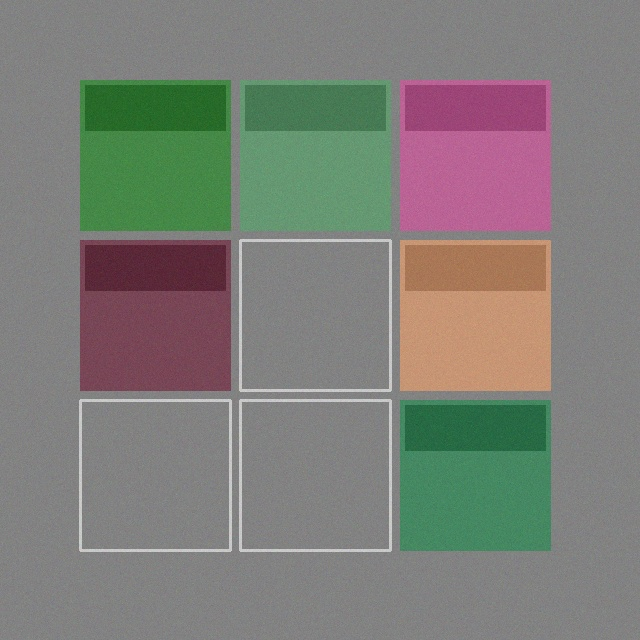space-empty: (240, 240, 390, 390), (80, 400, 230, 550), (240, 400, 390, 550)
space-occupied: (80, 80, 230, 230), (240, 80, 390, 230), (400, 80, 550, 230), (80, 240, 230, 390), (400, 240, 550, 390), (400, 400, 550, 550)
